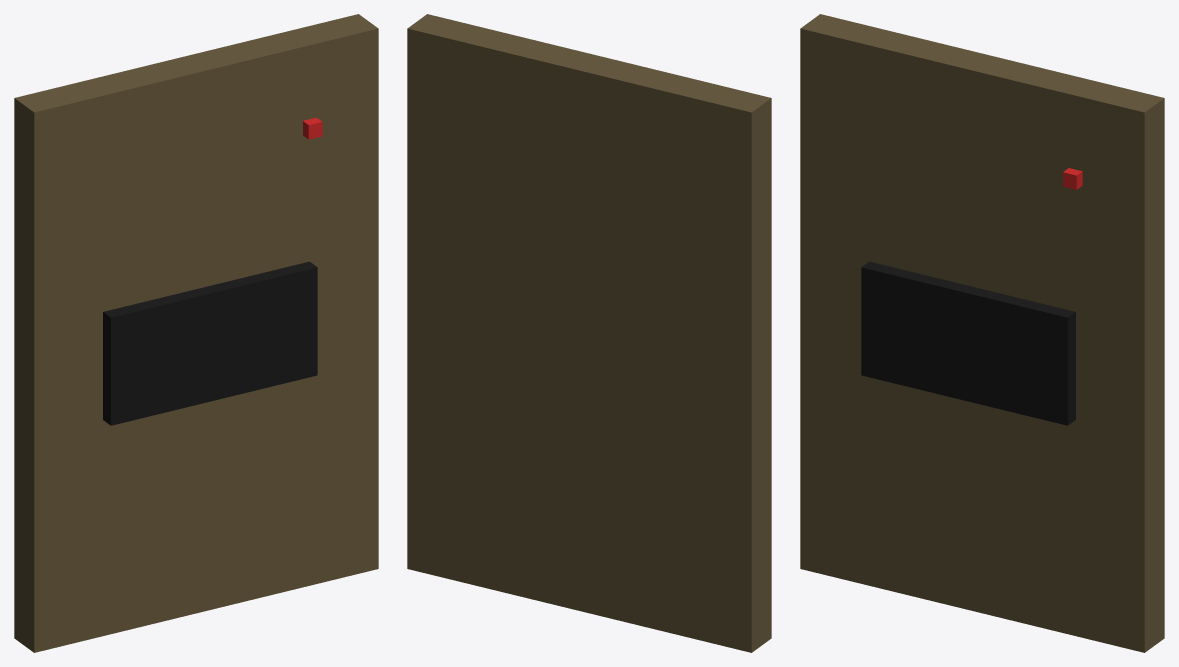
Rendered from g_thermite.glb.
The picture shows the model from 3 angles, left to right: view 1: azimuth 30°, elevation 25°; view 2: azimuth 150°, elevation 25°; view 3: azimuth 330°, elevation 25°; orthographic projection.
Visible parts, largest first — view 1: body; view 2: body; view 3: body.
Boxes of the visible parts, x1,y1,x2,y2 form: body: (14, 14, 378, 652); body: (407, 14, 771, 652); body: (800, 14, 1164, 652).
Size of the model in its own units: 0.5 by 0.75 by 0.07.
